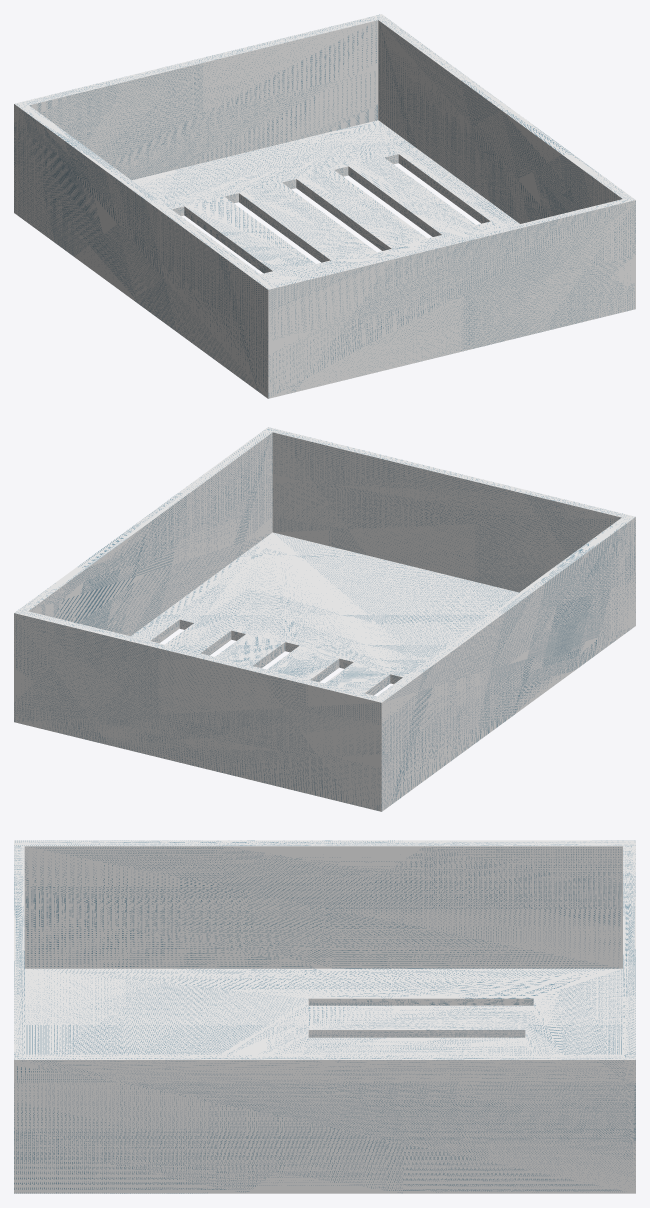
3 views of the same model, one above another, from view 1: azimuth 30°, elevation 25°; view 2: azimuth 150°, elevation 25°; view 3: azimuth 270°, elevation 25° (orthographic). The views are drawn at different scales.
Parts seen in each view (by area): view 1: SketchUp (×6); view 2: SketchUp; view 3: SketchUp (×3).
Boxes of the visible parts, left/top/right/bottom form: SketchUp (×6): left=14, top=14, right=635, bottom=398; SketchUp: left=14, top=427, right=635, bottom=811; SketchUp (×3): left=14, top=840, right=635, bottom=1193.
Bounding box in the file's own units: 5 × 5.98 × 1.42.
